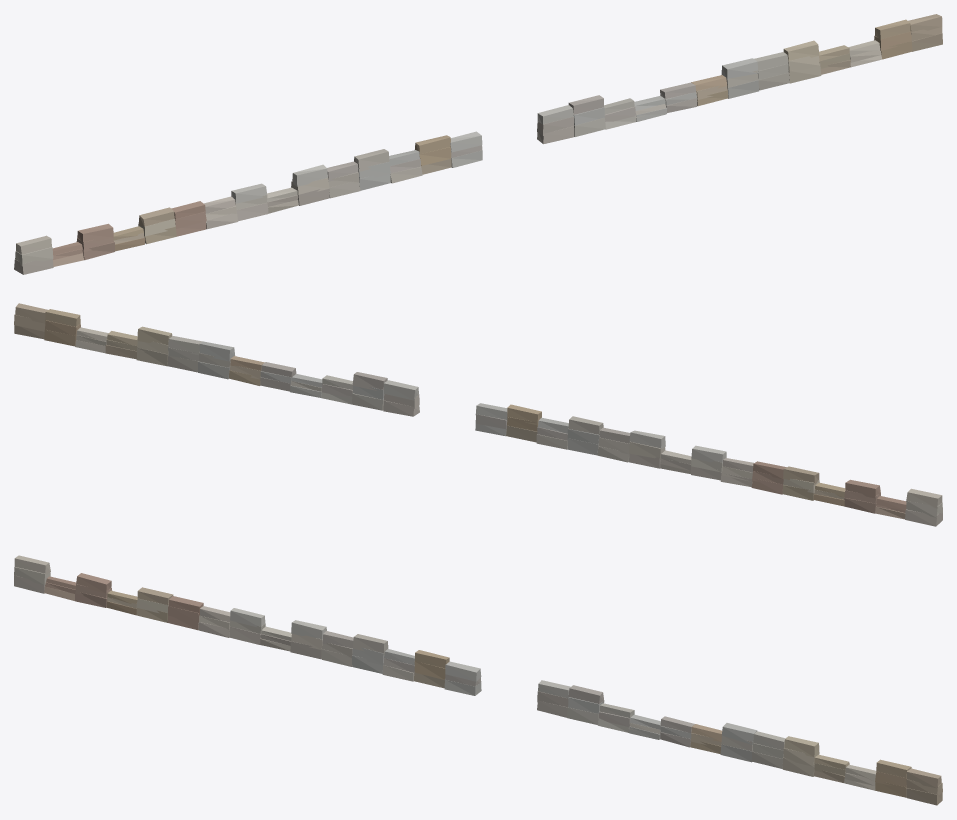
The model's file is farm_19_18_mid.glb.
3 renders of one model, top to bottom at view 1: azimuth 30°, elevation 25°; view 2: azimuth 150°, elevation 25°; view 3: azimuth 330°, elevation 25°, orthographic. The views are drawn at different scales.
Visible parts, largest first — view 1: geometry_0; view 2: geometry_0; view 3: geometry_0.
Part boxes in pixels (x1,y1,x2,y2): geometry_0: (14, 14, 942, 274); geometry_0: (14, 303, 942, 526); geometry_0: (14, 555, 942, 805).
Bounding box in the file's own units: 47.95 × 2.05 × 2.46.
